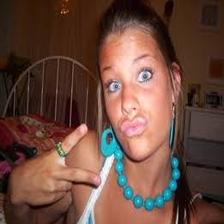no_mask: (99, 38, 172, 159)
